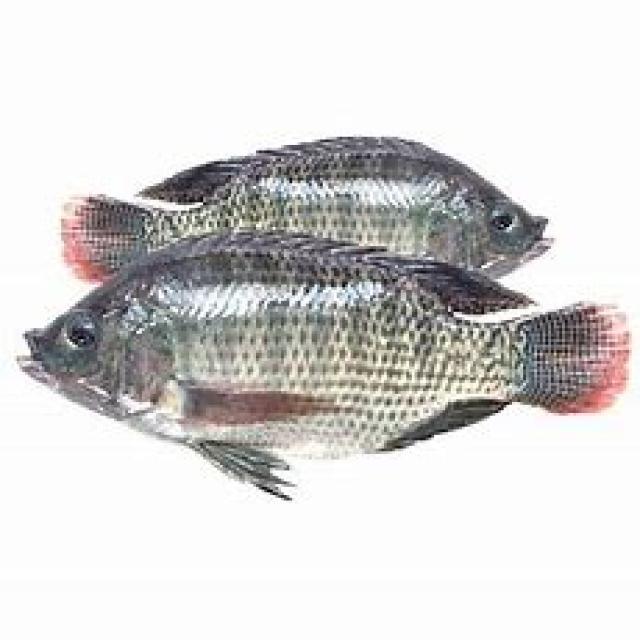Tilapia: (15, 227, 637, 494)
